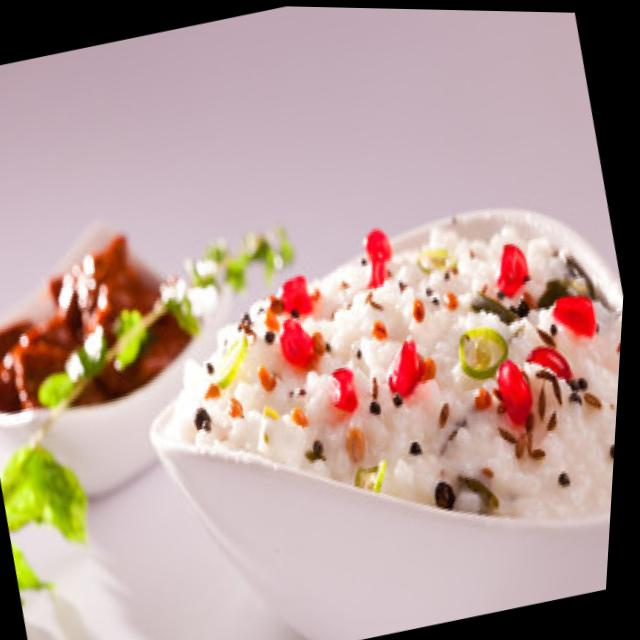CURD RICE: (164, 222, 622, 517)
